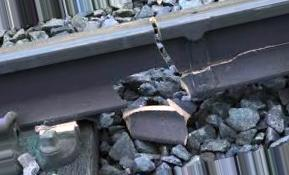tracks_fault: (143, 14, 205, 106)
